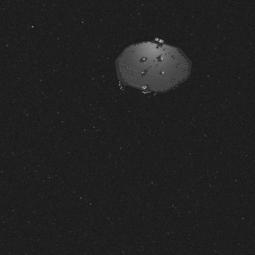lisa_pathfinder: (104, 26, 196, 104)
